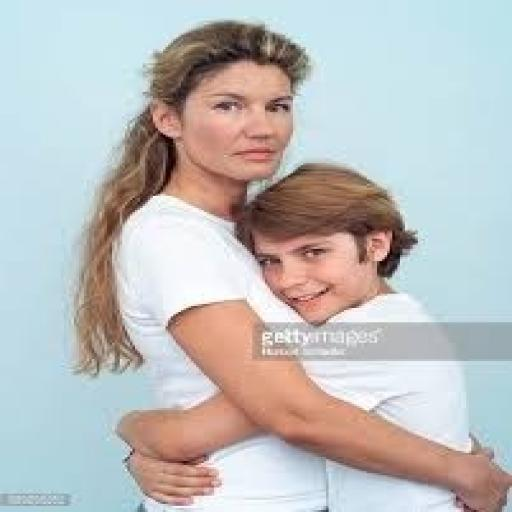hugging: (69, 18, 509, 510)
